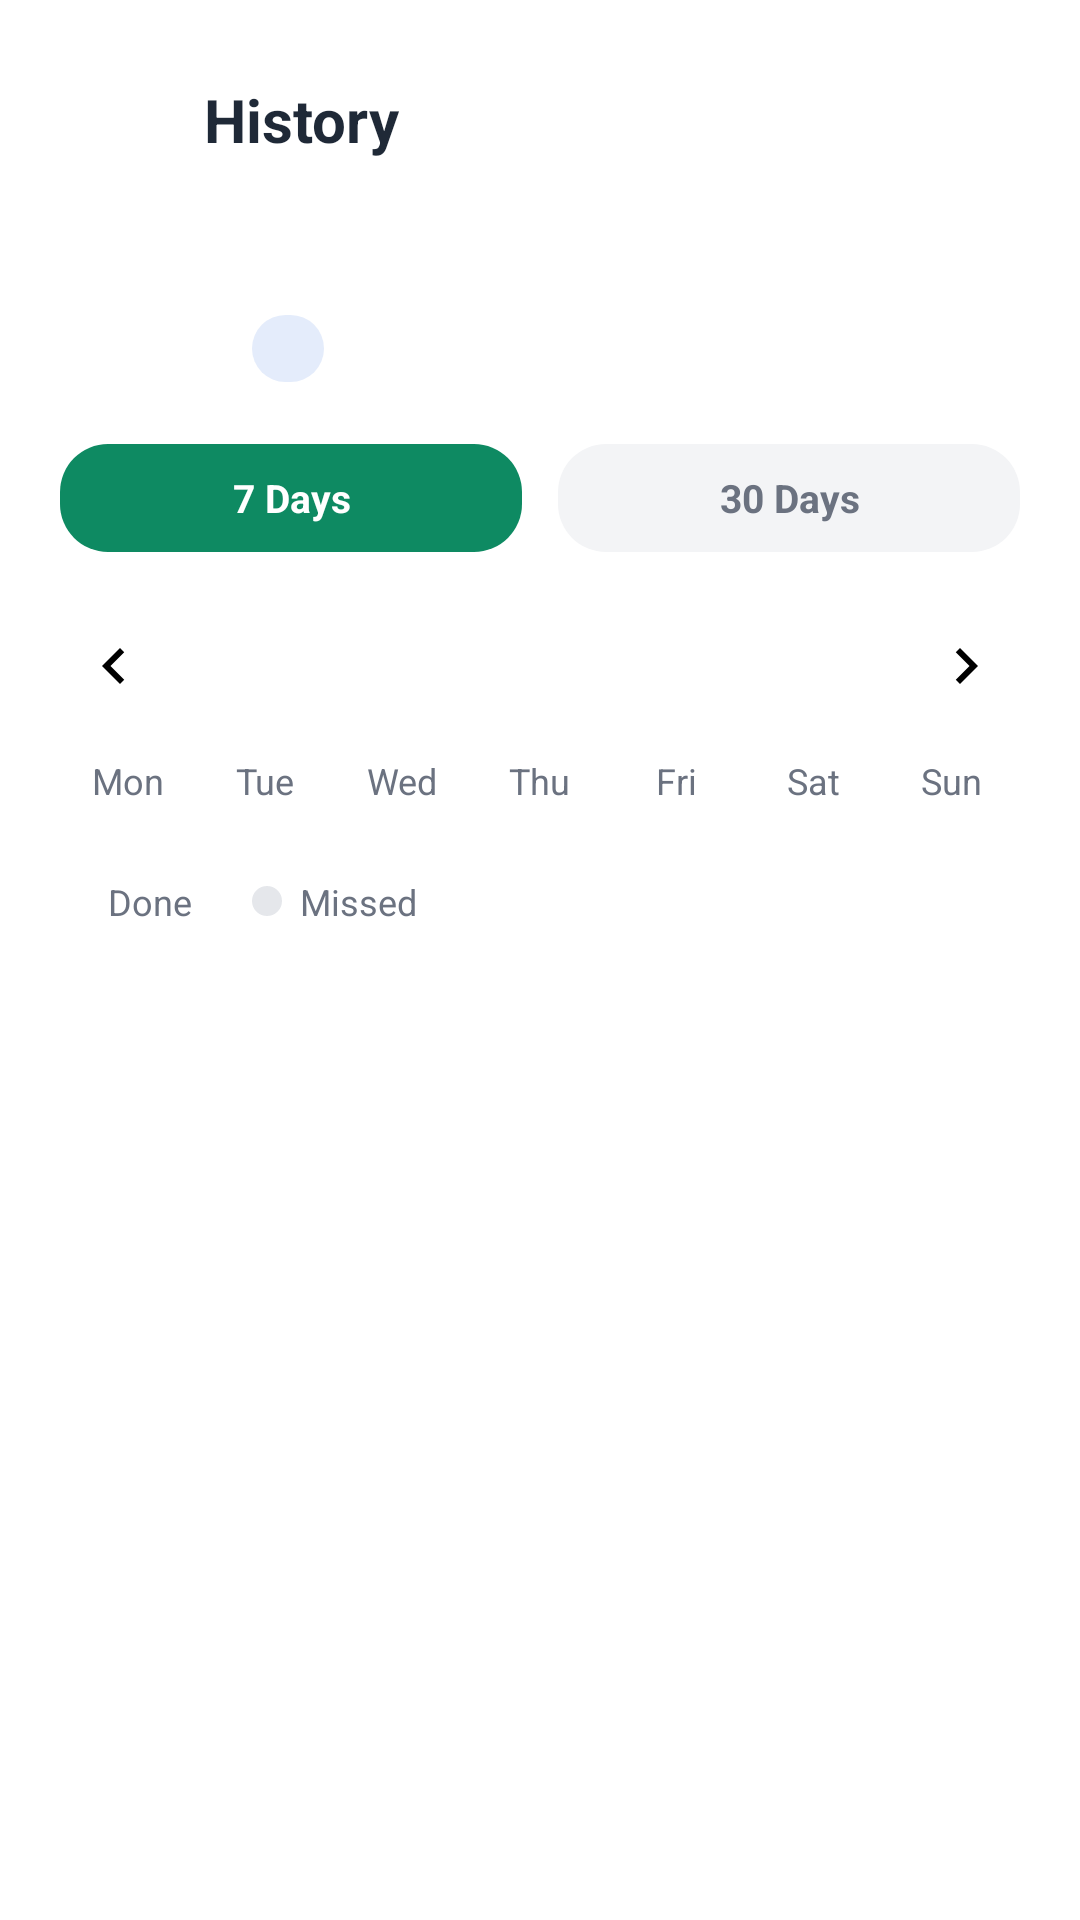

Icon bounding boxes for this 1080x1920 phone screenshot, format (x1, y1, x2, y2):
chevron left: (102, 648, 124, 684)
chevron right: (956, 648, 978, 684)
